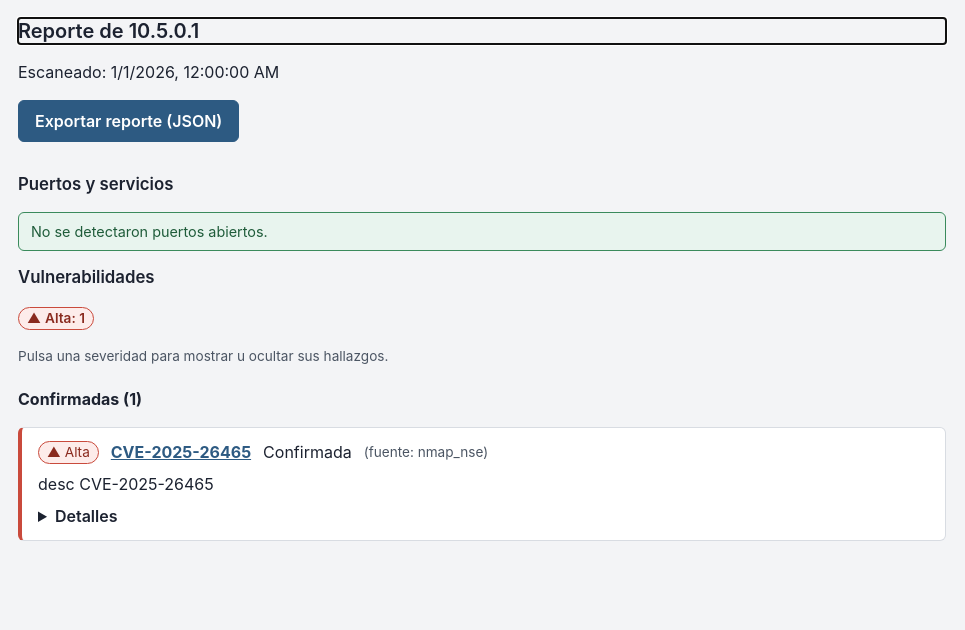
Test: finding cards › el_script_nse_y_las_referencias_van_en_un_details_colapsado
Click the heading "Detalles" at (86, 516), box [55, 506, 118, 526]
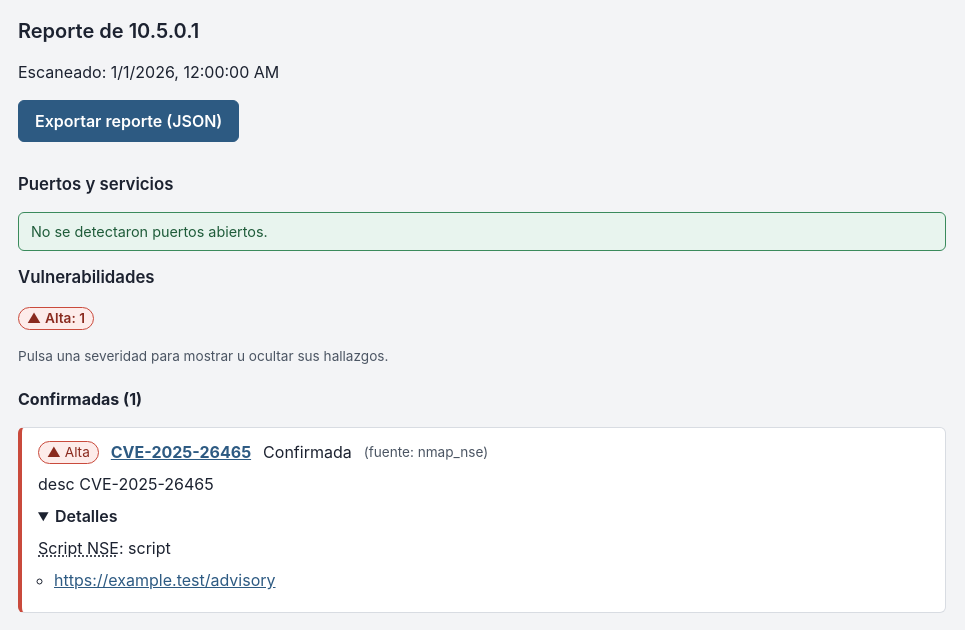
Result: the link "https://example.test/advisory" is shown at [54, 570, 276, 590]
